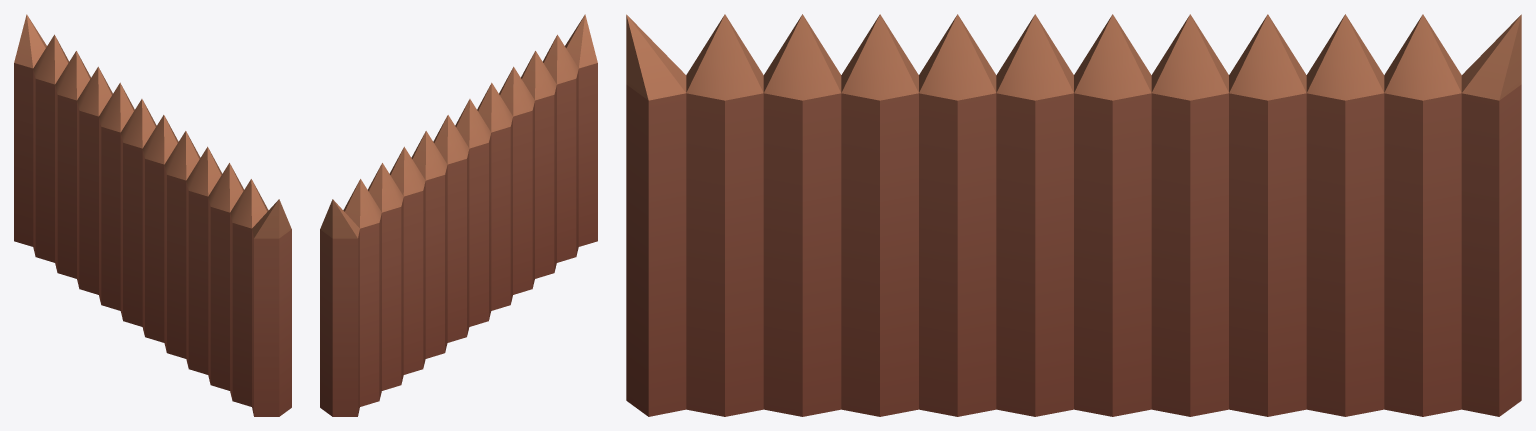
Rendered from fence_wood_straight.glb.
The picture shows the model from 3 angles, left to right: view 1: azimuth 30°, elevation 25°; view 2: azimuth 150°, elevation 25°; view 3: azimuth 270°, elevation 25°; orthographic projection. The views are drawn at different scales.
Parts seen in each view (by area): view 1: fence_wood_straight; view 2: fence_wood_straight; view 3: fence_wood_straight.
Boxes of the visible parts, x1,y1,x2,y2 form: fence_wood_straight: (14,14,291,416); fence_wood_straight: (320,14,597,416); fence_wood_straight: (626,14,1521,416).
Size of the model in its own units: 0.0999 by 0.5501 by 1.15.
Materials: 1 (1 with a texture image).
